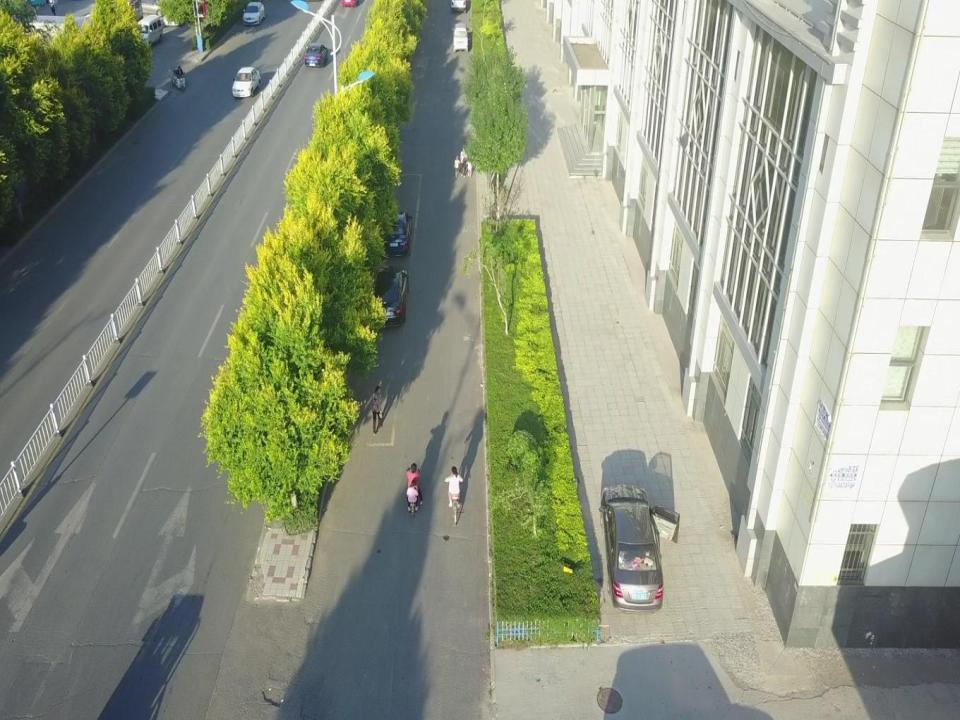car: (600, 483, 679, 614), (366, 264, 409, 326), (380, 210, 413, 256), (232, 67, 261, 98), (304, 42, 328, 68), (133, 0, 166, 17), (241, 2, 266, 24), (163, 5, 188, 26)
van: (132, 13, 162, 50), (451, 22, 469, 52)
